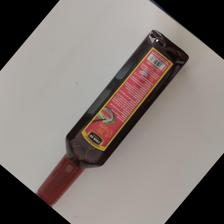Namngu: (28, 30, 188, 224)
